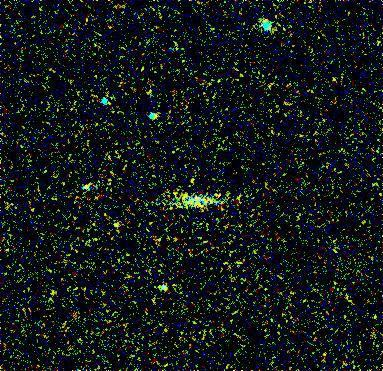star: (73, 171, 103, 201)
